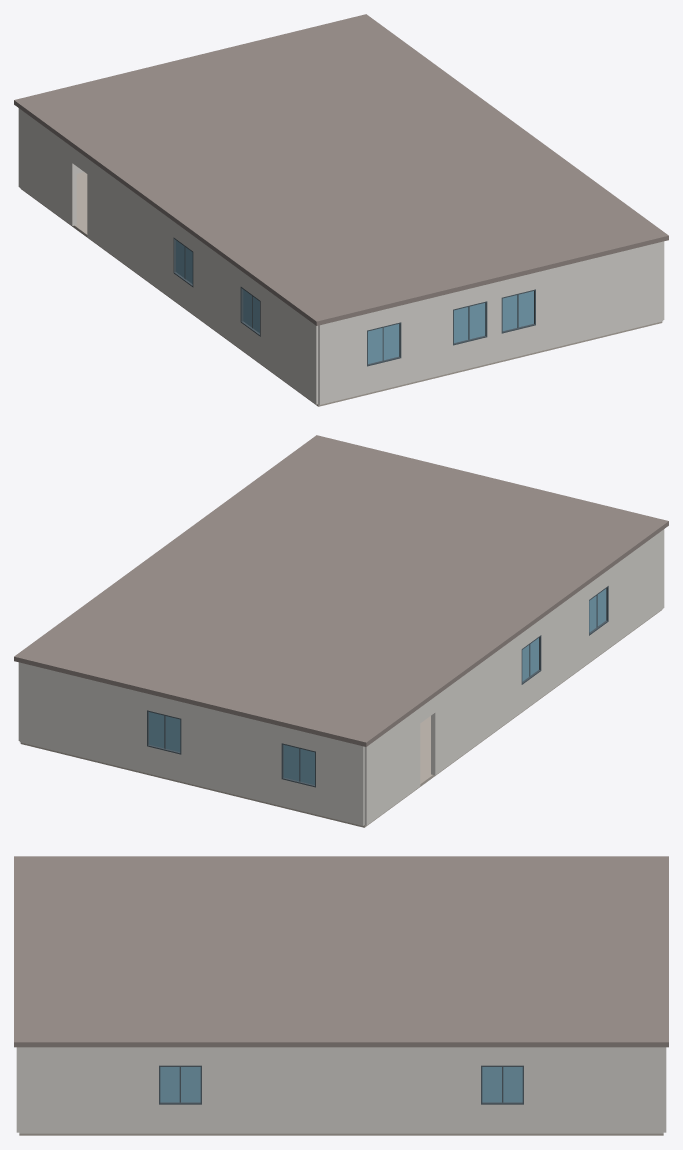
File: salema-cilla-bf6a55d5b6.glb
3 views of the same model, one above another, from view 1: azimuth 30°, elevation 25°; view 2: azimuth 150°, elevation 25°; view 3: azimuth 270°, elevation 25° (orthographic). The views are drawn at different scales.
Parts seen in each view (by area): view 1: roof_0, wall_0_14, wall_0_16, wall_0_18, wall_0_15, wall_0_12, wall_0_11, wall_0_17, floor_slab_0, wall_0_13, window_0_2_pane, window_0_4_pane (+9 smaller); view 2: roof_0, wall_0_2, wall_0_1, wall_0_16, wall_0_18, wall_0_15, wall_0_0, wall_0_17, floor_slab_0, window_0_0_pane, window_0_5_pane, wall_0_56 (+5 smaller); view 3: roof_0, wall_0_32, wall_0_31, wall_0_33, floor_slab_0, window_0_1_pane, window_0_3_pane, wall_0_40, wall_0_47, wall_0_39, wall_0_46.
Part boxes in pixels (bbox=[...]): roof_0: bbox=[14, 14, 668, 325]; wall_0_14: bbox=[536, 241, 663, 352]; wall_0_16: bbox=[87, 158, 173, 299]; wall_0_18: bbox=[260, 285, 318, 404]; wall_0_15: bbox=[18, 108, 76, 225]; wall_0_12: bbox=[401, 293, 452, 384]; wall_0_11: bbox=[318, 314, 366, 404]; wall_0_17: bbox=[193, 236, 240, 348]; floor_slab_0: bbox=[20, 172, 662, 406]; wall_0_13: bbox=[487, 281, 501, 363]; window_0_2_pane: bbox=[502, 291, 533, 330]; window_0_4_pane: bbox=[454, 303, 485, 342]; roof_0: bbox=[14, 435, 668, 746]; wall_0_2: bbox=[19, 662, 146, 773]; wall_0_1: bbox=[181, 702, 281, 805]; wall_0_16: bbox=[431, 633, 521, 775]; wall_0_18: bbox=[608, 529, 664, 647]; wall_0_15: bbox=[364, 708, 420, 825]; wall_0_0: bbox=[316, 735, 364, 825]; wall_0_17: bbox=[541, 584, 588, 697]; floor_slab_0: bbox=[20, 609, 662, 827]; window_0_0_pane: bbox=[149, 712, 180, 751]; window_0_5_pane: bbox=[283, 745, 314, 784]; wall_0_56: bbox=[281, 779, 315, 814]; roof_0: bbox=[14, 856, 668, 1047]; wall_0_32: bbox=[202, 1047, 480, 1133]; wall_0_31: bbox=[524, 1047, 663, 1133]; wall_0_33: bbox=[19, 1047, 158, 1133]; floor_slab_0: bbox=[19, 1133, 663, 1135]; window_0_1_pane: bbox=[482, 1067, 522, 1102]; window_0_3_pane: bbox=[160, 1067, 200, 1102]; wall_0_40: bbox=[481, 1104, 523, 1133]; wall_0_47: bbox=[159, 1104, 201, 1133]; wall_0_39: bbox=[481, 1047, 523, 1065]; wall_0_46: bbox=[159, 1047, 201, 1065].
Bounding box in the file's own units: 41 × 9.8 × 61.
